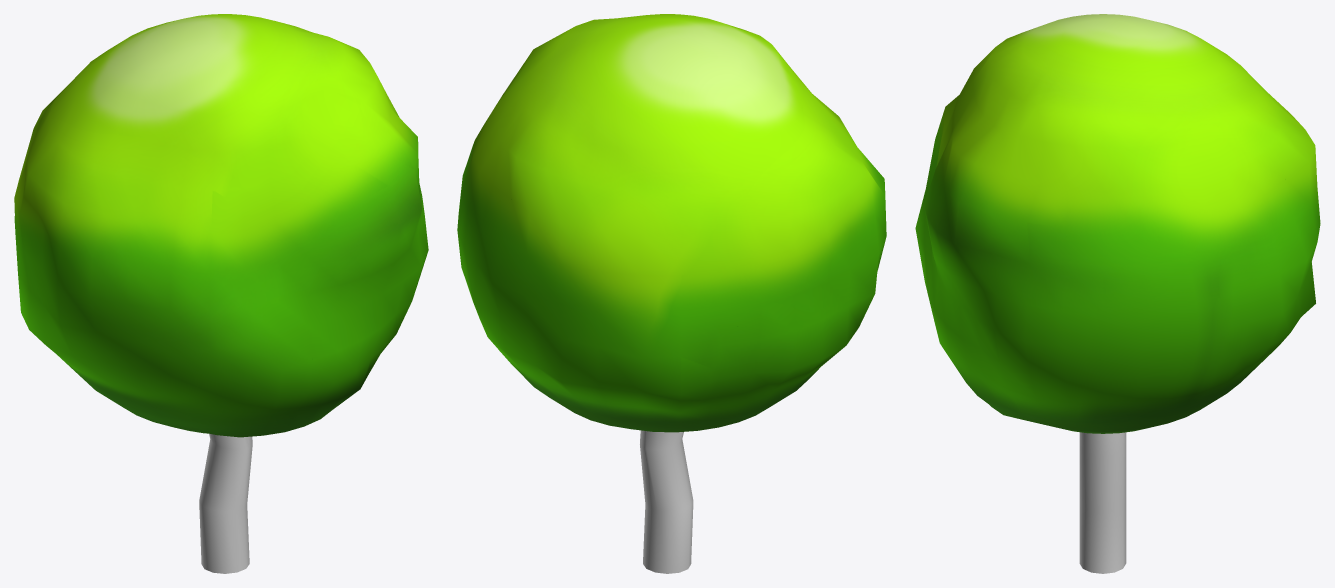
The model's file is Tree.fbx.
The picture shows the model from 3 angles, left to right: view 1: azimuth 30°, elevation 25°; view 2: azimuth 150°, elevation 25°; view 3: azimuth 270°, elevation 25°; orthographic projection.
Visible parts, largest first — view 1: Sphere, Cylinder; view 2: Sphere, Cylinder; view 3: Sphere, Cylinder.
Boxes of the visible parts, <box> form: Sphere: <box>14,14,428,437</box>; Cylinder: <box>199,433,252,573</box>; Sphere: <box>457,14,886,432</box>; Cylinder: <box>640,430,693,573</box>; Sphere: <box>915,14,1320,433</box>; Cylinder: <box>1079,432,1126,573</box>.
Bounding box in the file's own units: 3409 × 4650 × 3222.
